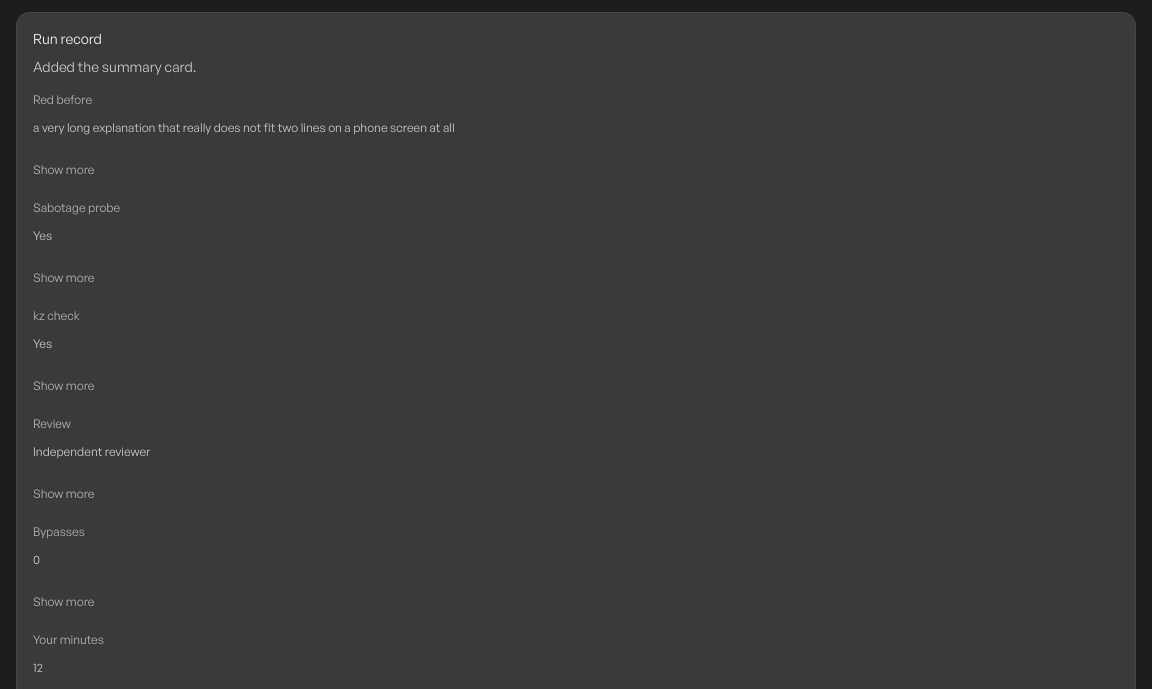
HeadRunRecordCard › clamps a genuinely overflowing fact to two lines with an expand control, never silently
This screenshot has width=1152, height=689.
Click the button "Show more" below "Red before".
click(64, 170)  # box top-left (33, 148), bottom-right (94, 192)
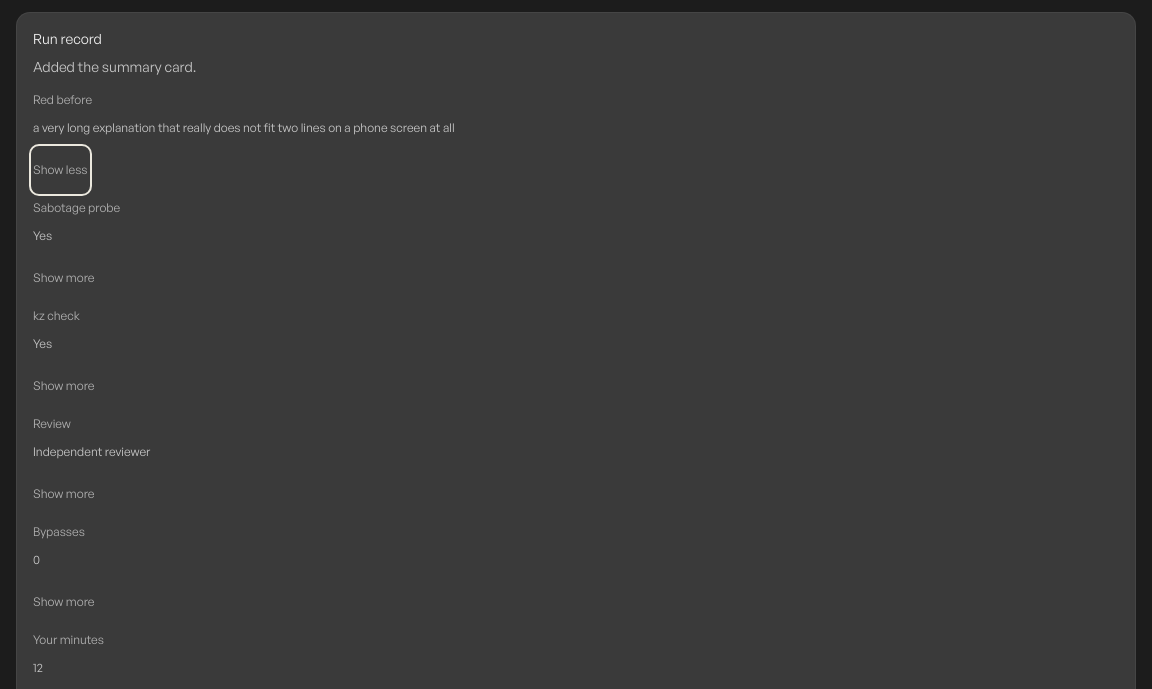
Now the button "Show less" is shown, box top-left (33, 148), bottom-right (88, 192)
